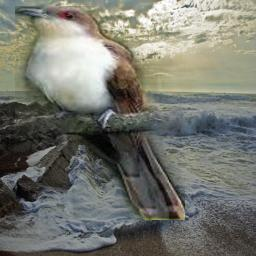Cuckoo: (15, 6, 185, 220)
